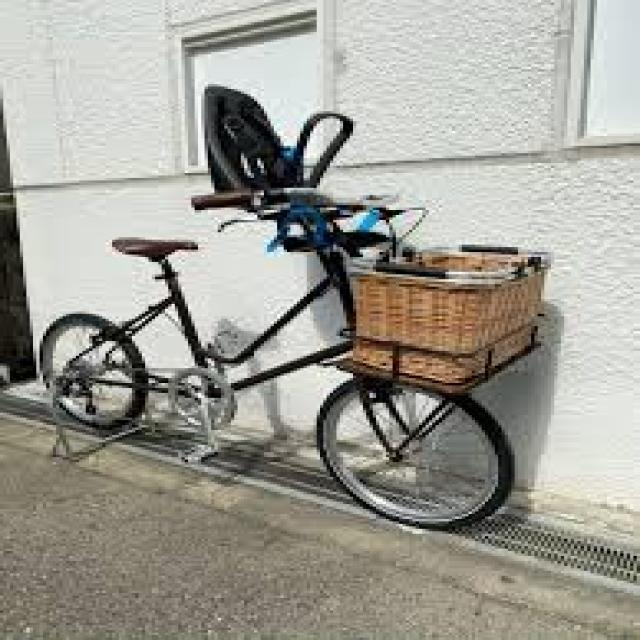basket: (347, 243, 550, 387)
